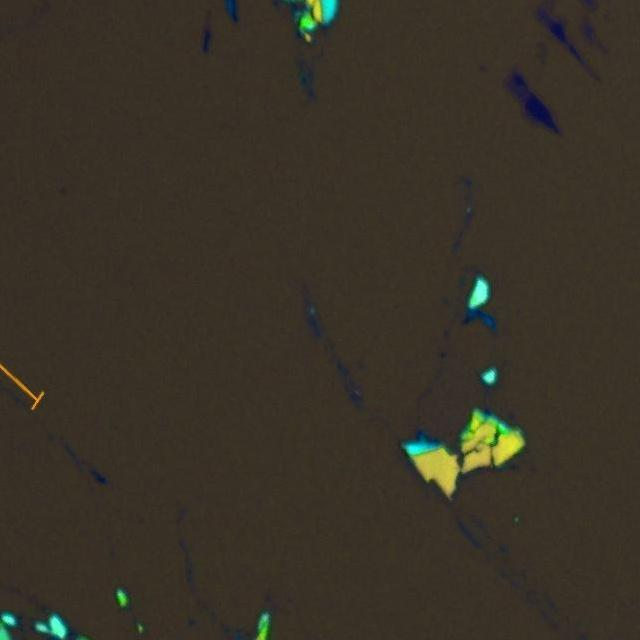monolayer-eWW4: (580, 22, 606, 52), (504, 76, 530, 105), (536, 0, 552, 27)
